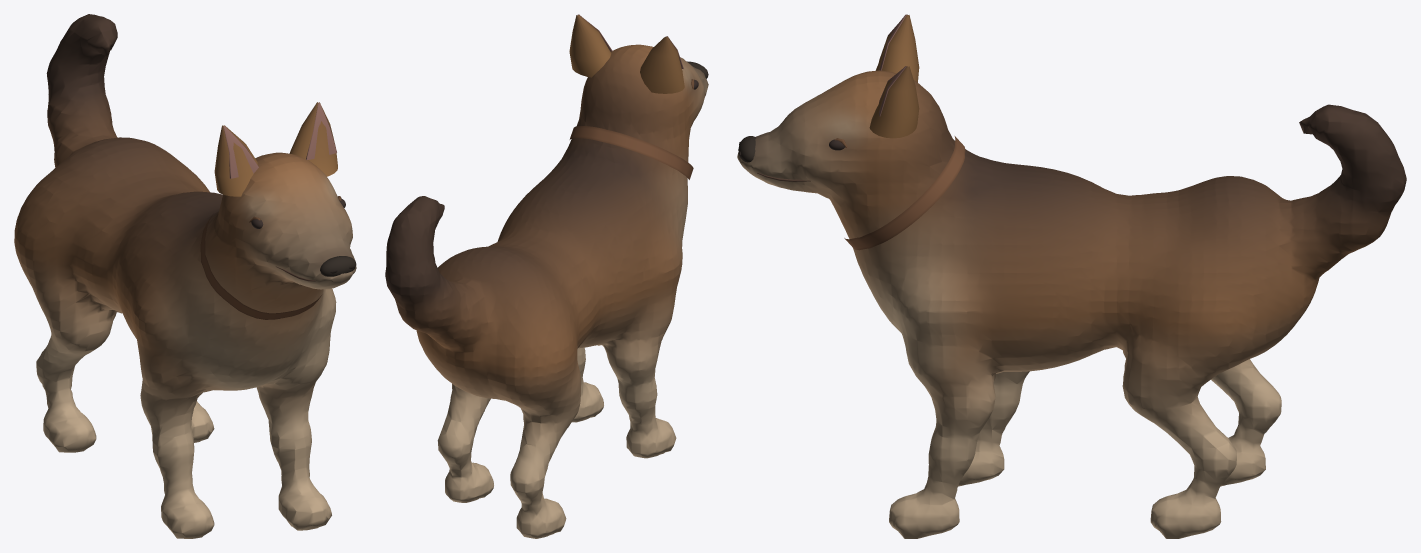
Rendered from courtyard_hound.glb.
3 views of the same model, side by side, from view 1: azimuth 30°, elevation 25°; view 2: azimuth 150°, elevation 25°; view 3: azimuth 270°, elevation 25° (orthographic). The views are drawn at different scales.
Visible parts, largest first — view 1: CourtyardHound; view 2: CourtyardHound; view 3: CourtyardHound.
Boxes of the visible parts, left/top/right/bottom form: CourtyardHound: left=14, top=14, right=356, bottom=538; CourtyardHound: left=385, top=14, right=708, bottom=538; CourtyardHound: left=737, top=14, right=1406, bottom=538.
Size of the model in its own units: 0.3389 by 0.7934 by 1.02.
